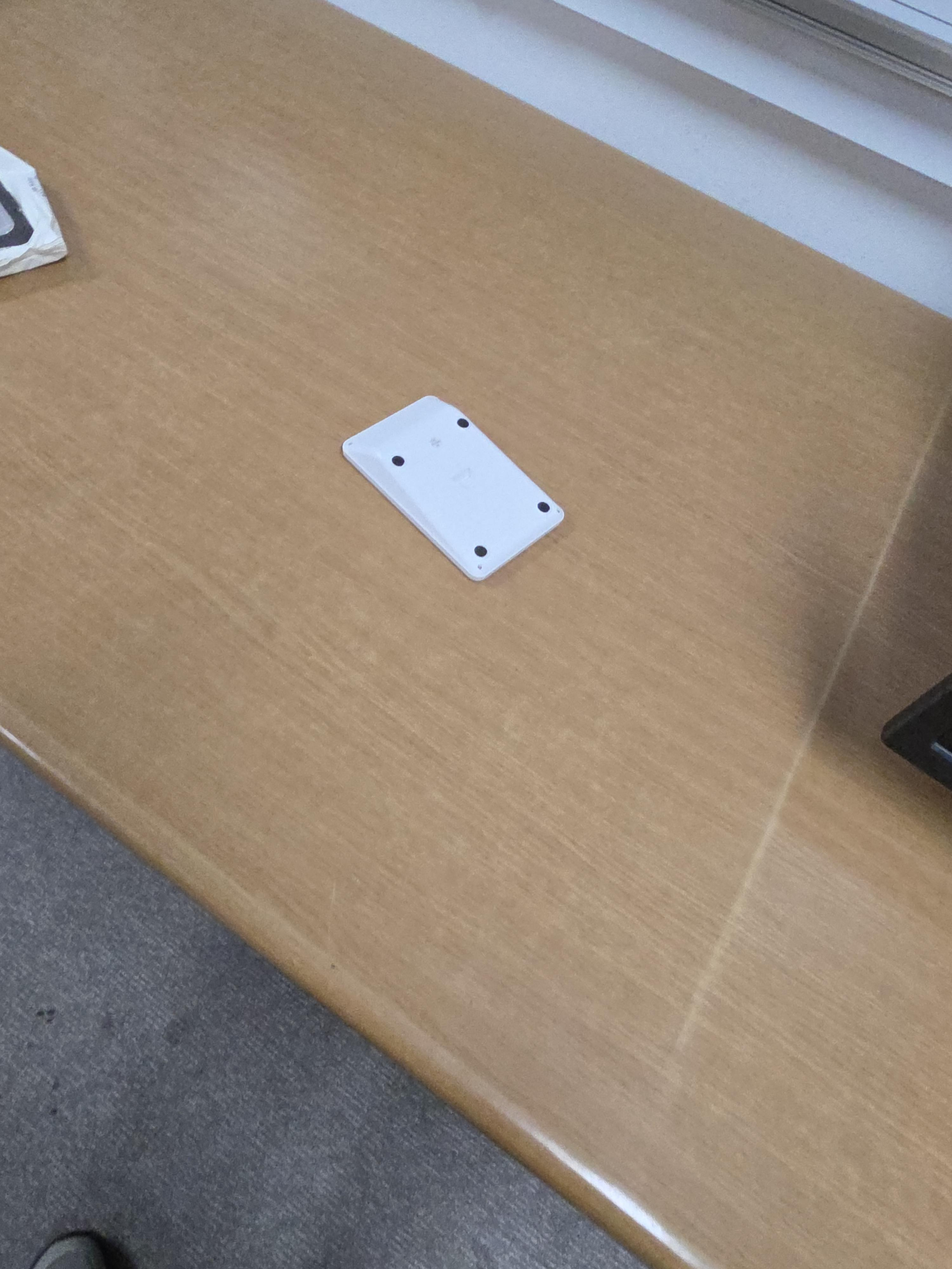calculator: (341, 395, 566, 582)
tissue: (0, 148, 69, 278)
